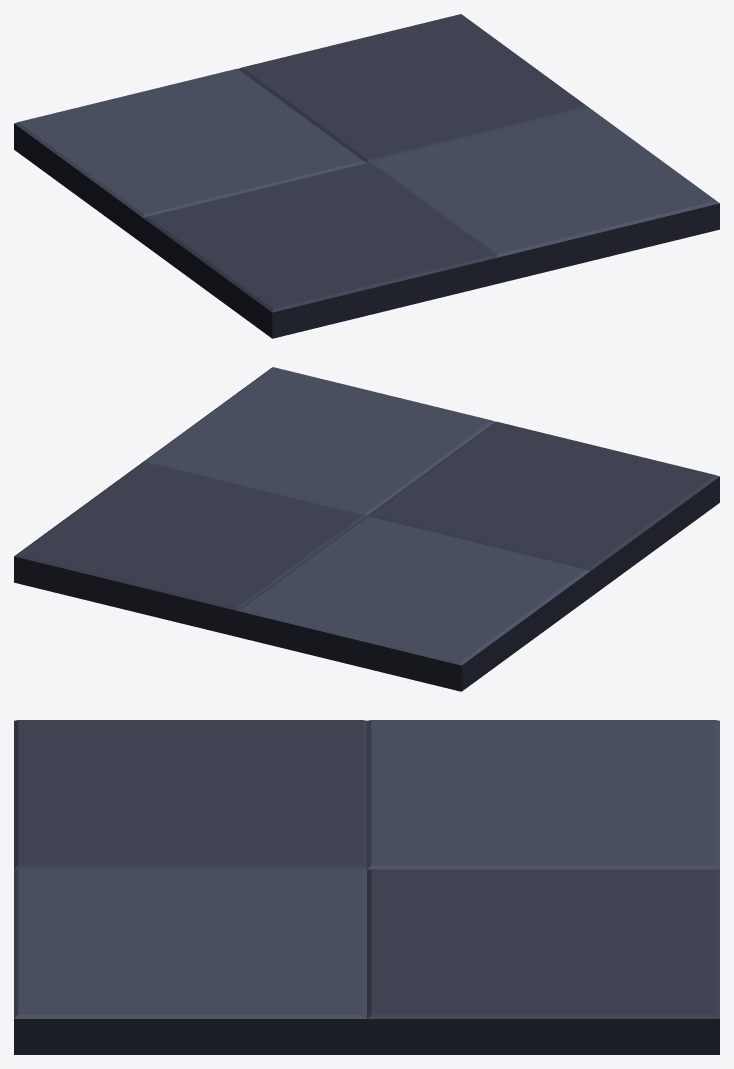
The model's file is boden_teppich_b.glb.
3 views of the same model, one above another, from view 1: azimuth 30°, elevation 25°; view 2: azimuth 150°, elevation 25°; view 3: azimuth 270°, elevation 25° (orthographic). The views are drawn at different scales.
Visible parts, largest first — view 1: boden_teppich_b; view 2: boden_teppich_b; view 3: boden_teppich_b.
Part boxes in pixels (<box>): boden_teppich_b: <box>14,14,719,338</box>; boden_teppich_b: <box>14,367,719,691</box>; boden_teppich_b: <box>14,720,719,1054</box>.
Bounding box in the file's own units: 1 × 0.06 × 1.
